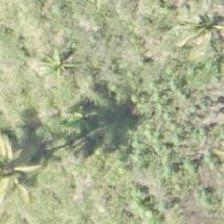Kelapa_Sawit: (147, 0, 223, 80)
